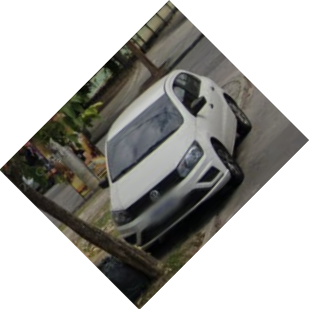car: (103, 70, 252, 248)
